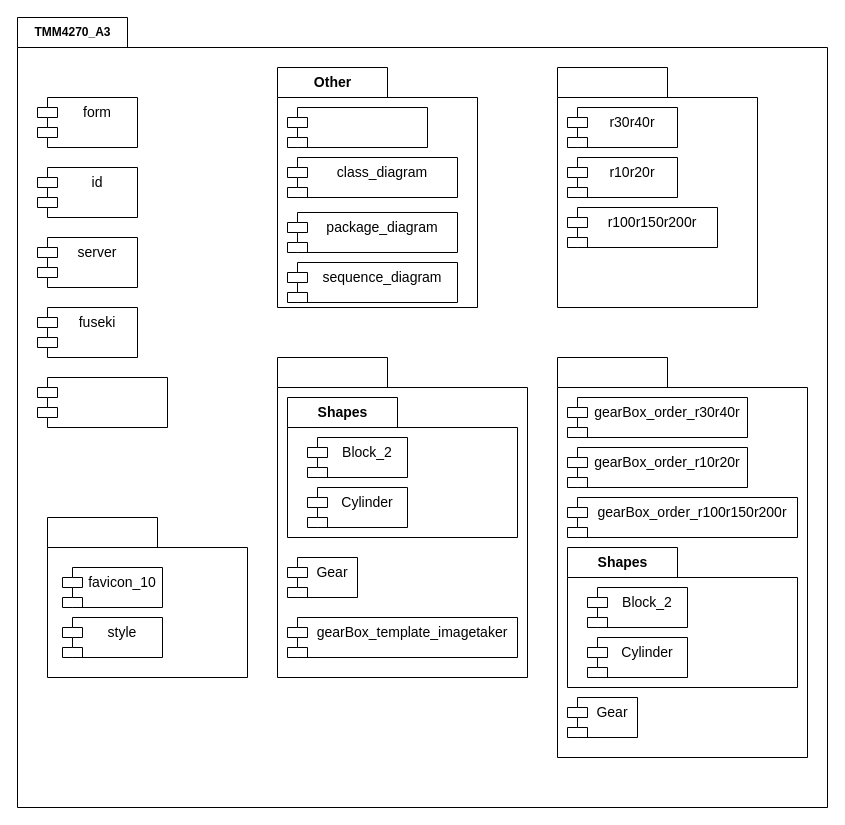
Some shapes in this 845 by 825 pixel diagram are drawn without their labels. Here are the shapes that lost their labels. From the top down, the box of each, then its label:
(286, 106, 428, 148): database
(556, 66, 758, 308): Product_images
(36, 376, 168, 428): journal_creator
(276, 356, 528, 678): Templates
(556, 356, 808, 758): Product_orders
(46, 516, 248, 678): style_fav
